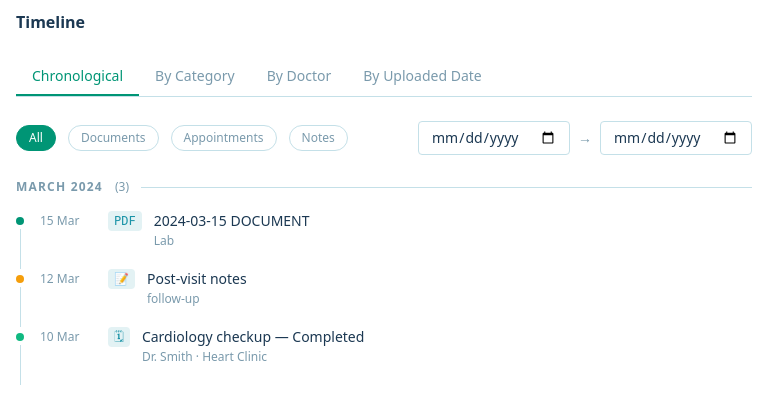
Scenario: TimelinePage › filters to documents only when Documents chip clicked
Expected: the text "2024-03-15 DOCUMENT" is shown, [154,211,310,230]
Click the button "Documents": (113, 138) [68,125,159,151]
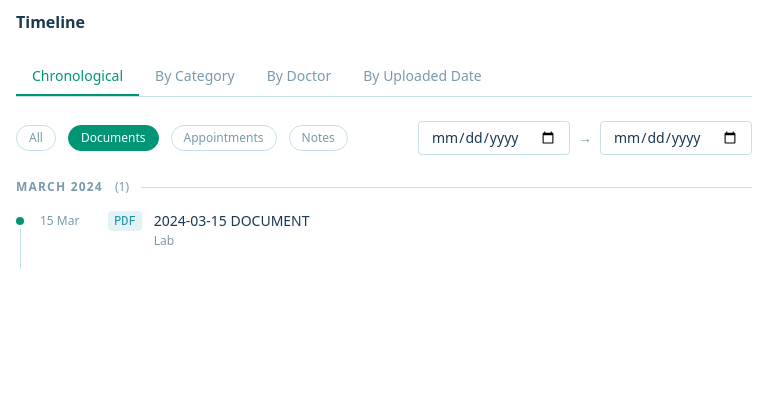
Expected: the text "2024-03-15 DOCUMENT" is shown, [154,211,310,230]
Now the link "Post-visit notes" is gone
